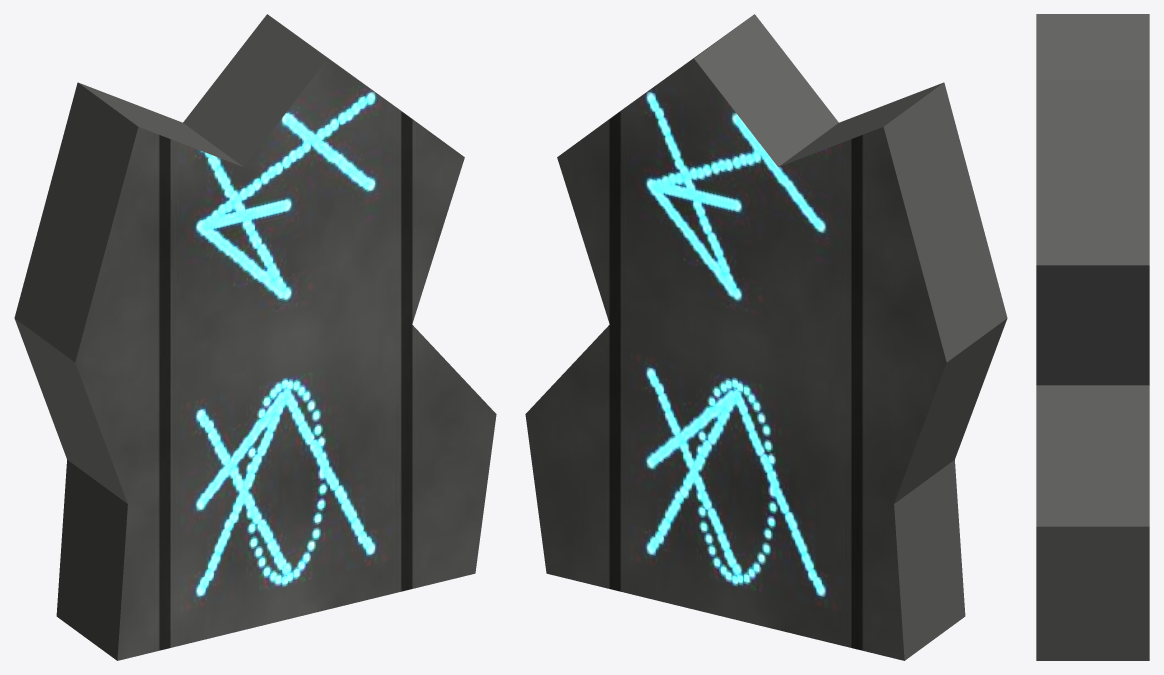
File: rune_fragment.glb
3 renders of one model, left to right at view 1: azimuth 30°, elevation 25°; view 2: azimuth 150°, elevation 25°; view 3: azimuth 270°, elevation 25°, orthographic. The views are drawn at different scales.
Visible parts, largest first — view 1: RuneFragment; view 2: RuneFragment; view 3: RuneFragment.
Boxes of the visible parts, x1,y1,x2,y2 form: RuneFragment: [14, 14, 496, 660]; RuneFragment: [525, 14, 1007, 660]; RuneFragment: [1036, 14, 1149, 660].
Bounding box in the file's own units: 0.2 × 0.25 × 0.05.
1 material, 1 textured.
